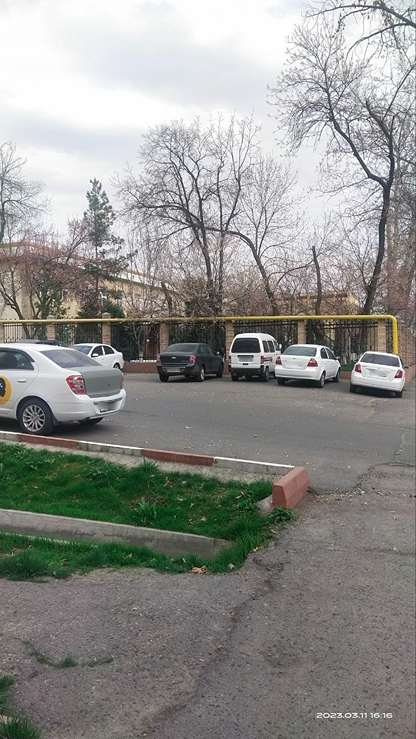car: (0, 331, 129, 431), (154, 331, 214, 385), (273, 340, 342, 385), (351, 346, 409, 398), (228, 323, 272, 378), (76, 341, 128, 369)
tree: (276, 5, 416, 325), (128, 98, 268, 299), (58, 167, 136, 315)
